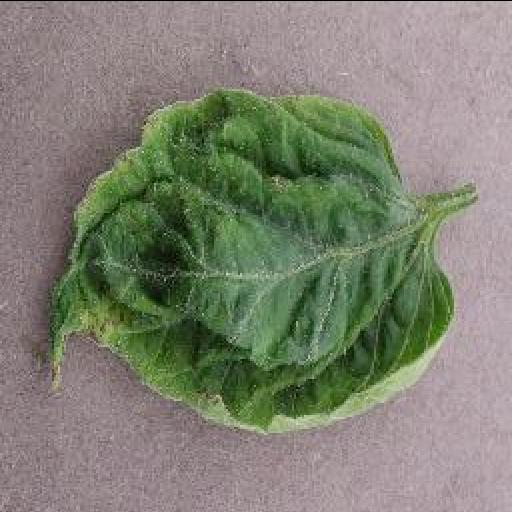disease_tomato: (34, 87, 454, 429)
